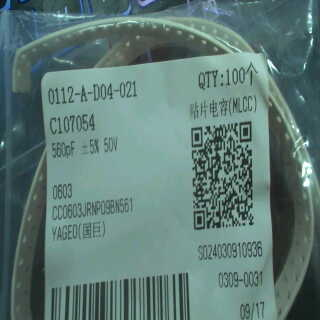560pF: (46, 138, 79, 164)
